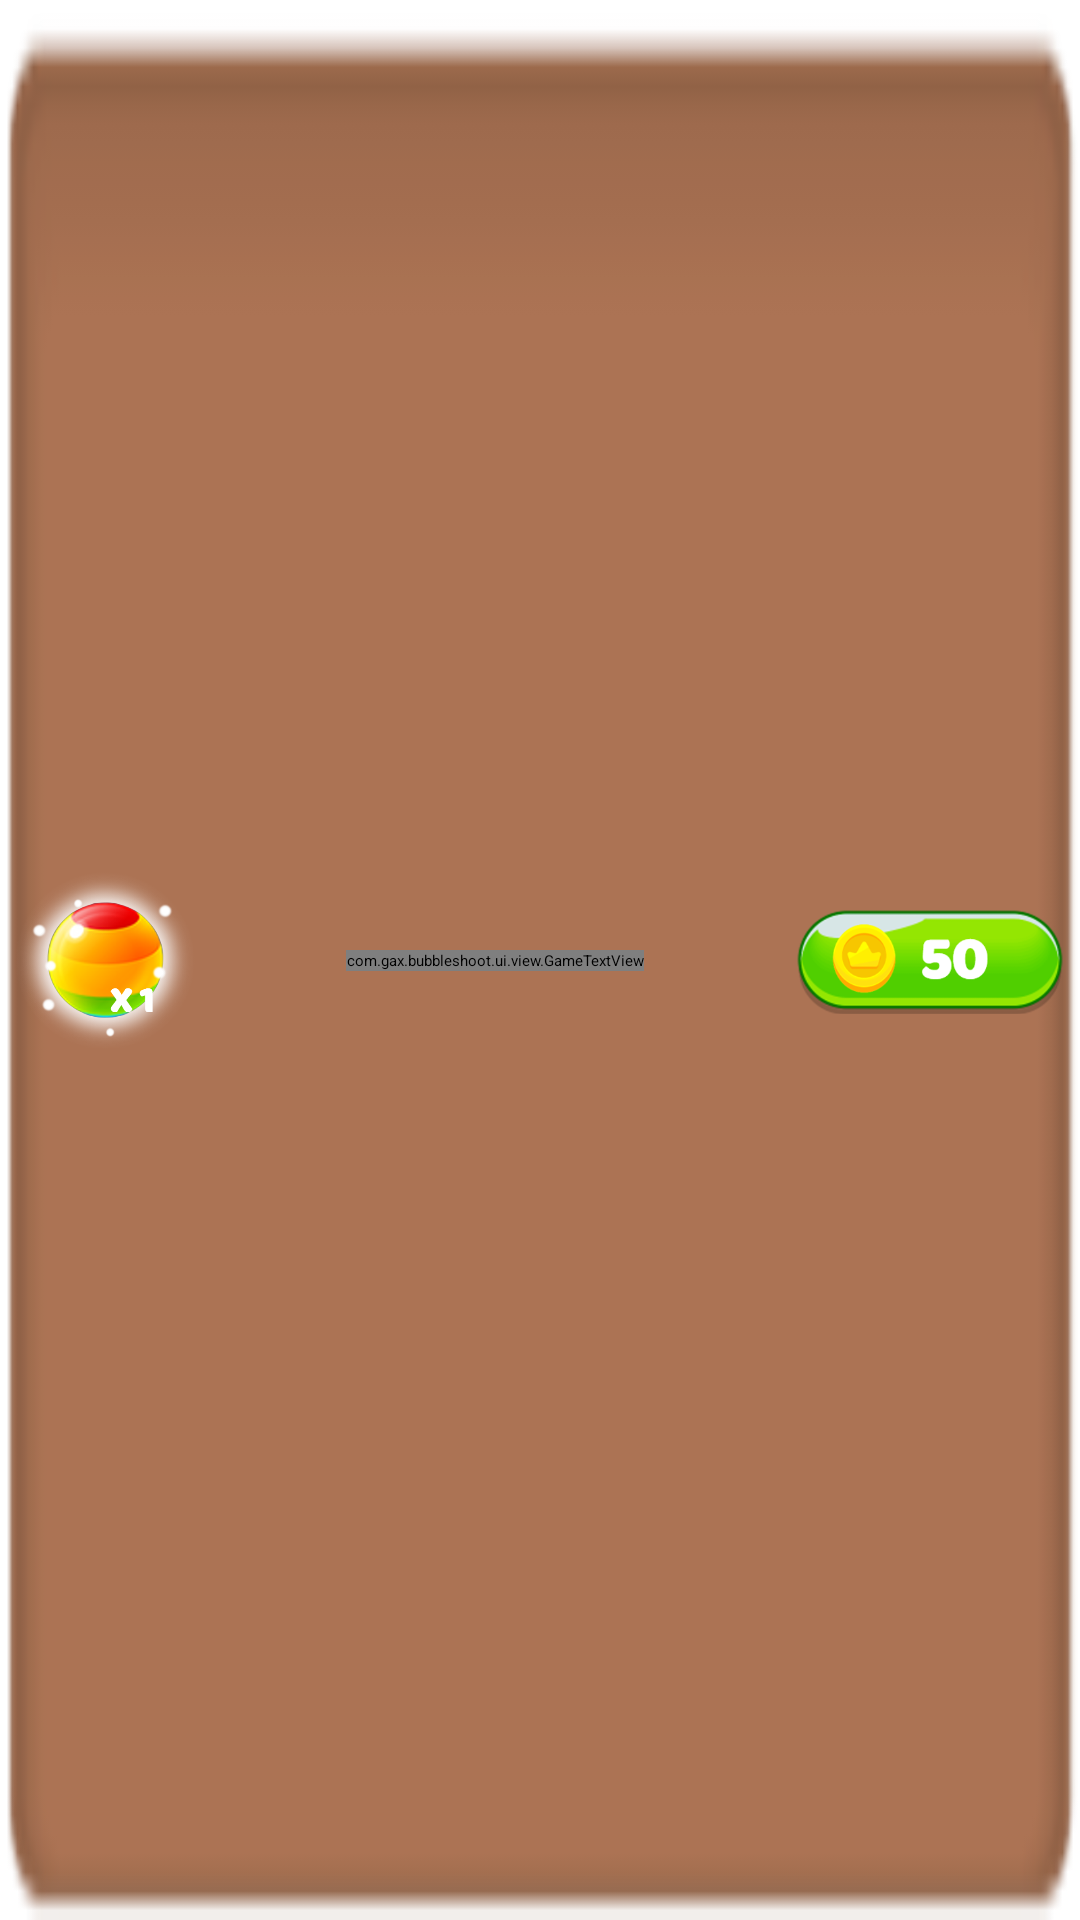

Named icons in this screenshot (1080px×1920px) and their bounding boxes, [x1,y1,x2,y2]:
product ball: [29,884,182,1037]
